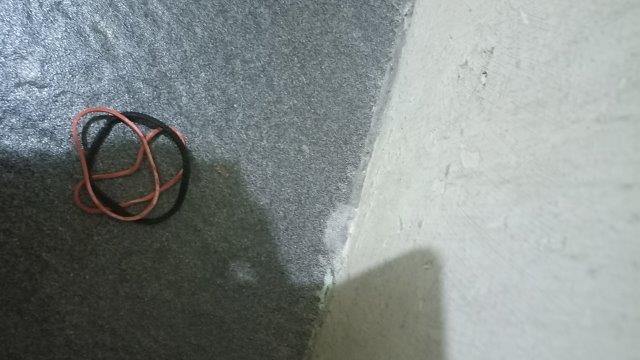karet: (71, 107, 191, 225)
